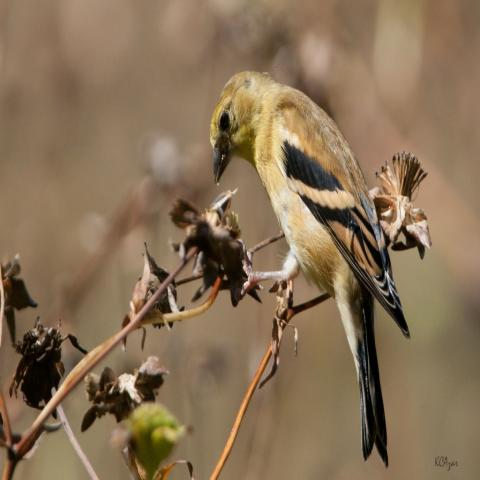bird: (206, 66, 412, 468)
